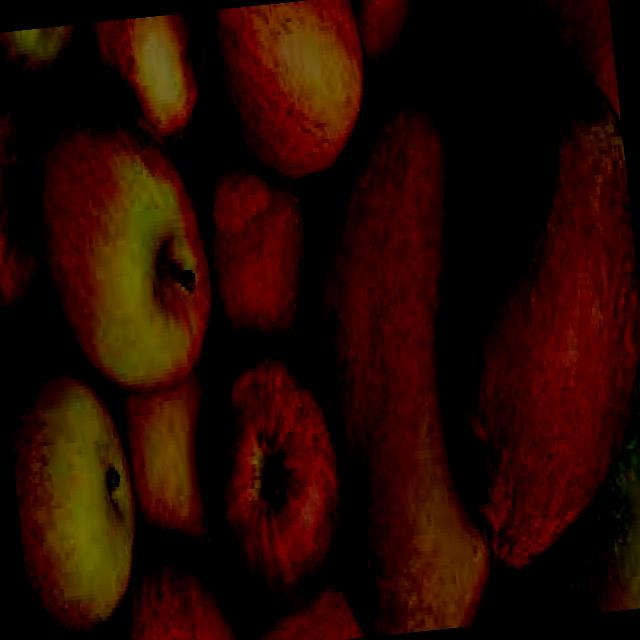Apple: (22, 88, 220, 400), (194, 348, 352, 624), (4, 361, 147, 640), (0, 55, 76, 345)
Mango: (286, 80, 522, 640), (428, 91, 640, 573), (193, 0, 373, 188)
